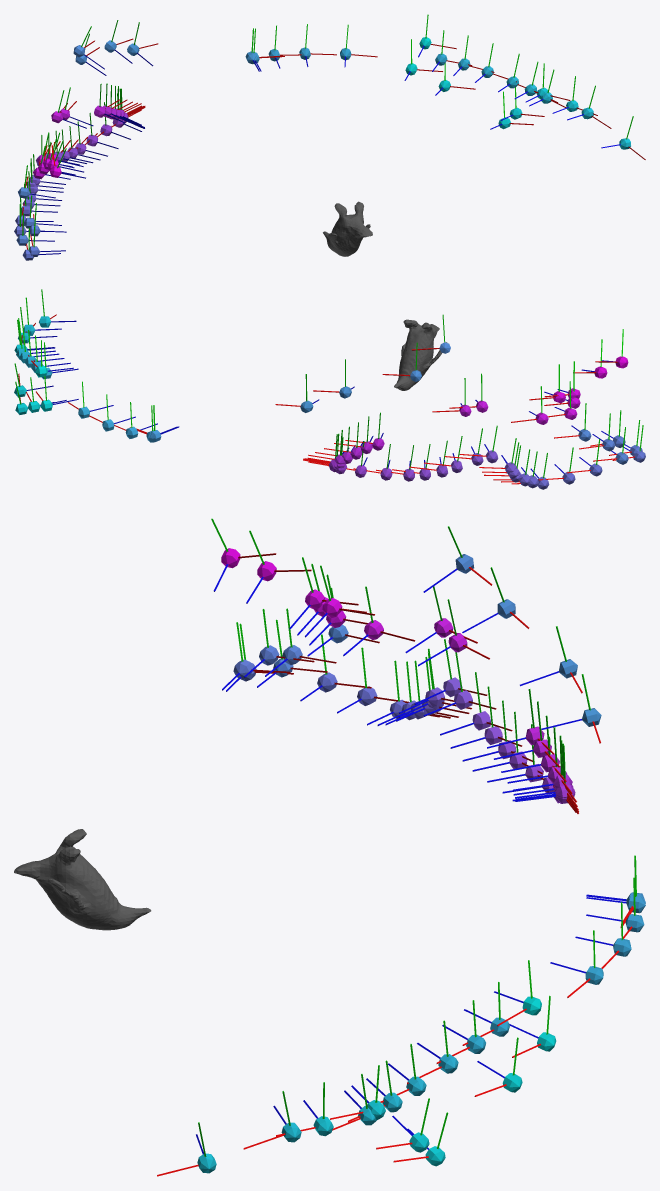
The model's file is 060-fg-proxy.obj.
3 views of the same model, one above another, from view 1: azimuth 30°, elevation 25°; view 2: azimuth 150°, elevation 25°; view 3: azimuth 270°, elevation 25° (orthographic). The views are drawn at different scales.
Bounding box in the file's own units: 2.73 × 0.8721 × 1.57.
